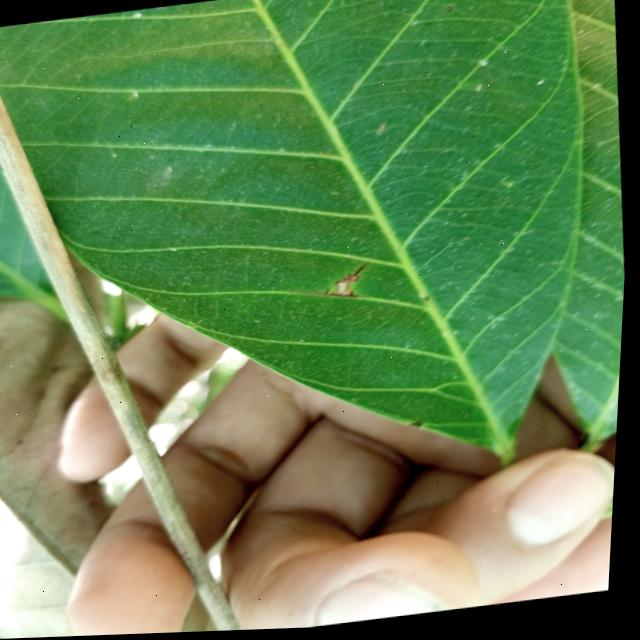Corynespora: (313, 265, 375, 307)
